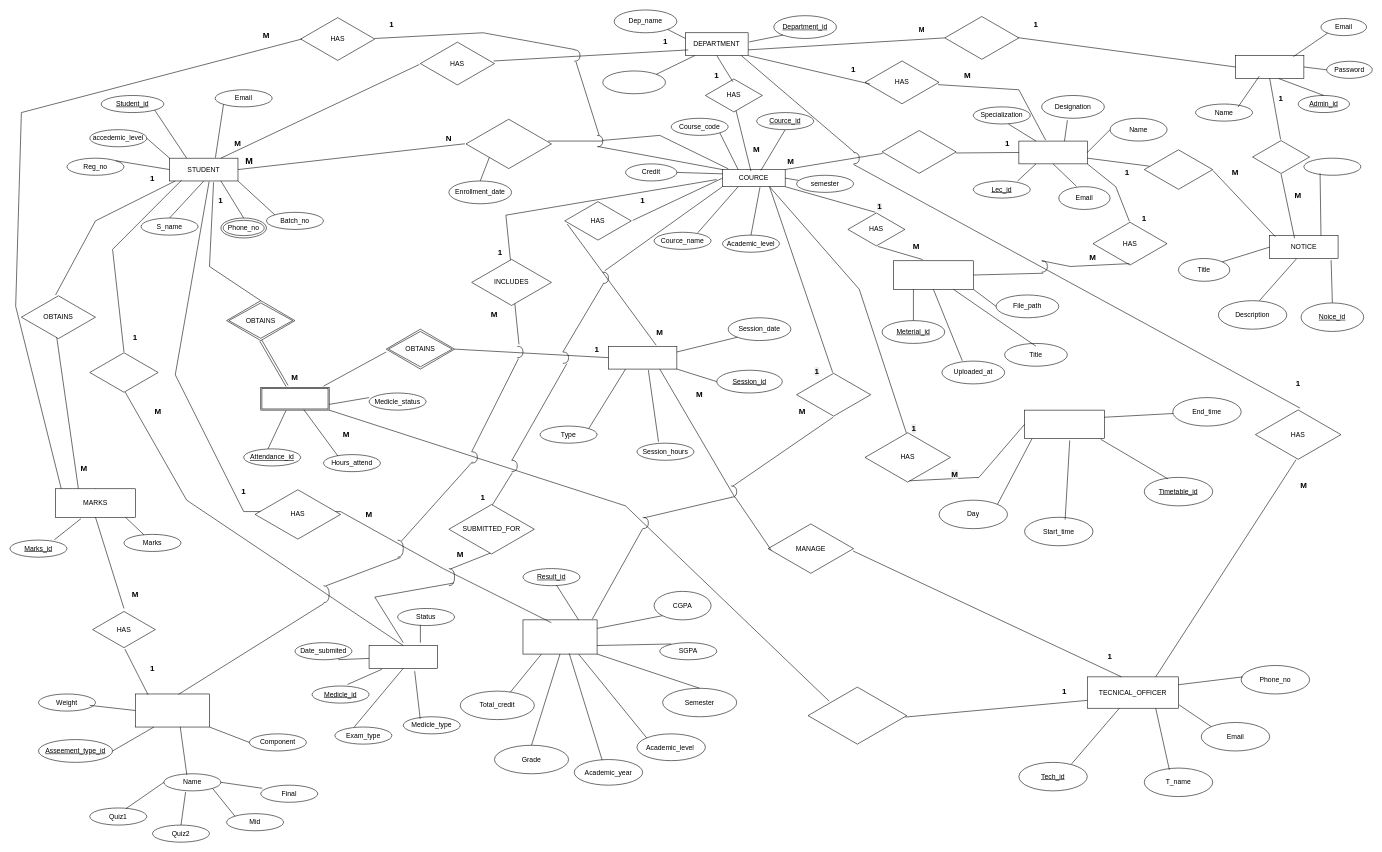
Some shapes in this 1382 by 852 pixel diagram are drawn without their labels. Here are the shapes that lost their labels. From the top down, the box of each, then its label:
(944, 15, 1019, 60): MANAGES
(602, 70, 665, 94): Faculty_name
(1235, 55, 1304, 78): ADMIN
(465, 118, 551, 170): STUDIES
(882, 129, 956, 174): TEACHES
(1018, 141, 1087, 164): LECTURE
(1252, 139, 1310, 174): CREATES
(1144, 148, 1213, 190): PUBLISHES
(1303, 158, 1361, 175): Publish_date
(893, 260, 973, 289): COURSE_MATERIAL
(89, 351, 158, 393): SUBMIT
(608, 346, 677, 369): SESSION
(260, 387, 329, 410): ATTENDENCE
(796, 372, 871, 417): GENERATES
(1024, 410, 1104, 439): TTIMETABLE
(369, 645, 437, 668): MEDICLAL
(522, 619, 597, 654): RESULT
(135, 693, 209, 727): ASSESMENT_TYPE
(807, 685, 907, 745): RECORDS
